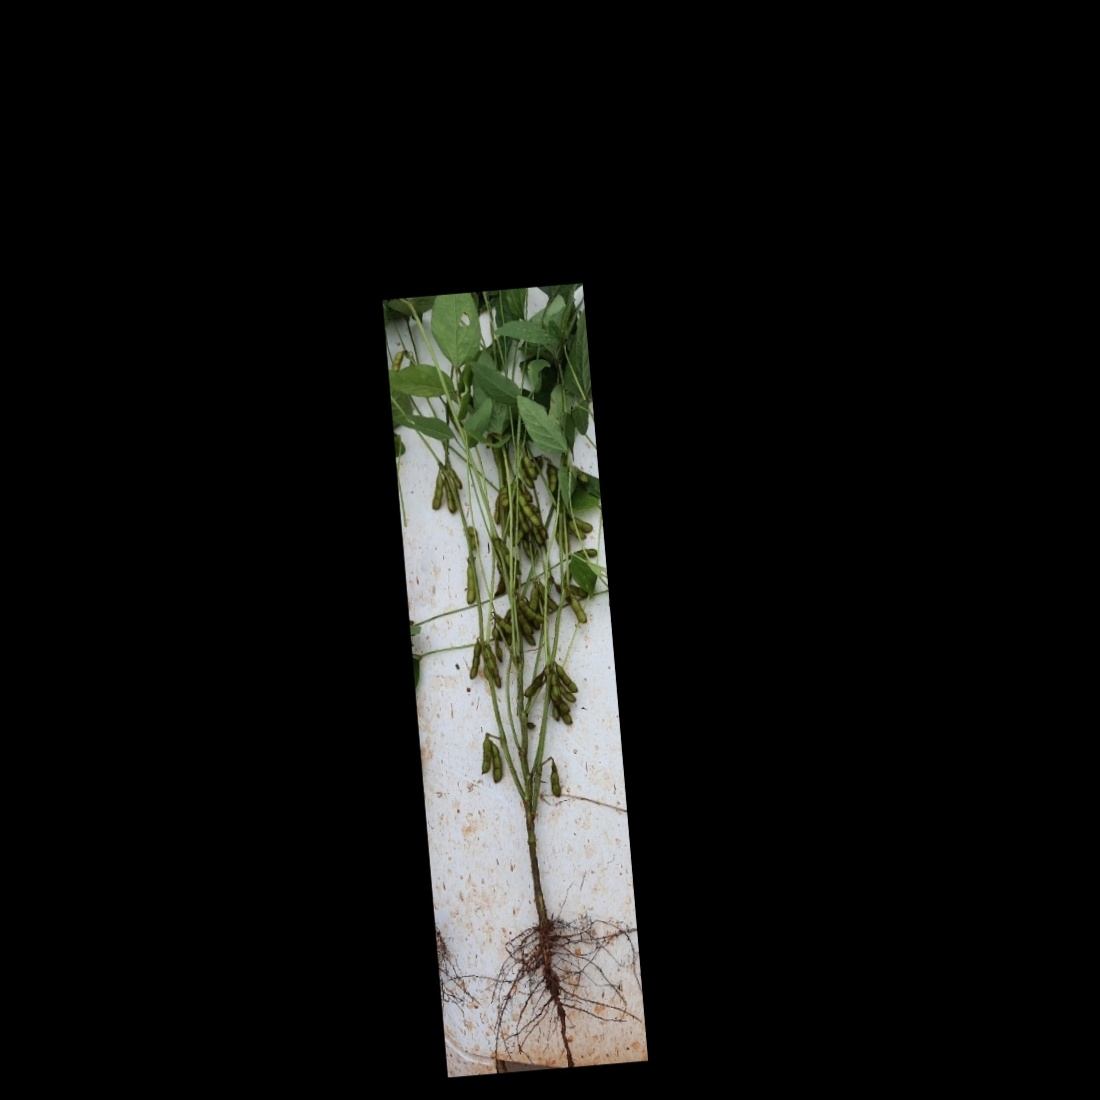pod: (514, 483, 545, 531), (549, 660, 583, 700), (456, 557, 480, 607), (512, 595, 550, 627), (517, 666, 550, 699), (464, 634, 486, 682), (550, 667, 577, 704), (425, 472, 447, 515), (487, 740, 506, 787), (545, 760, 566, 799), (569, 594, 592, 630), (472, 738, 495, 774), (519, 450, 539, 484)
soy: (386, 287, 638, 1049)
